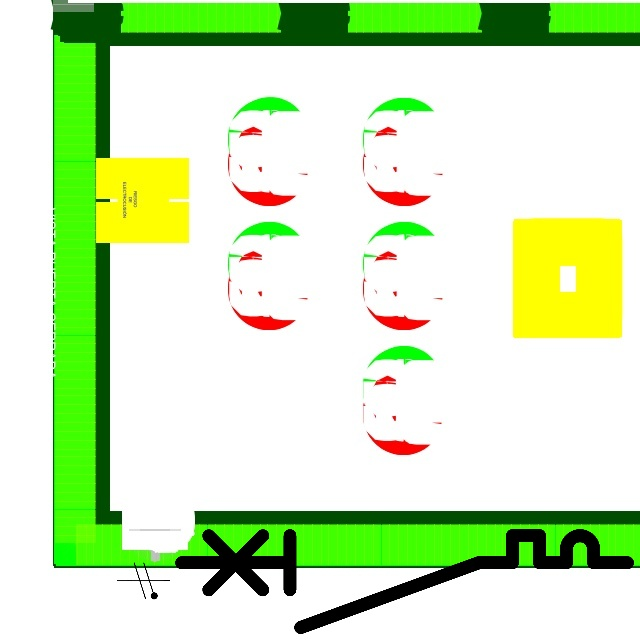interruptor_termomagnetico: (170, 524, 639, 639)
